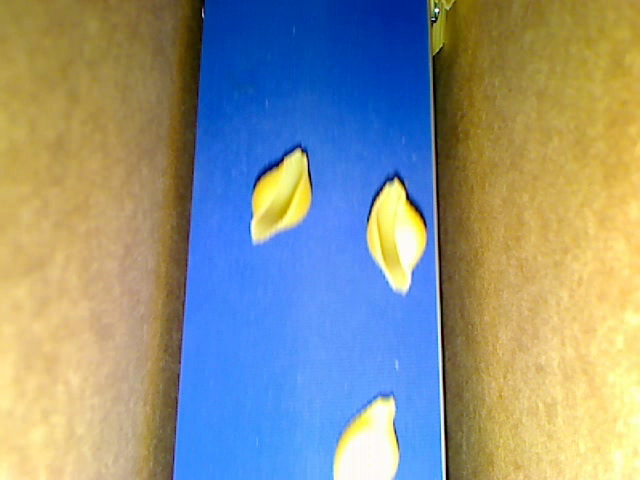penne: (429, 1, 447, 58), (438, 1, 455, 14)
shell: (367, 172, 428, 293), (245, 146, 316, 248), (332, 390, 400, 479)
